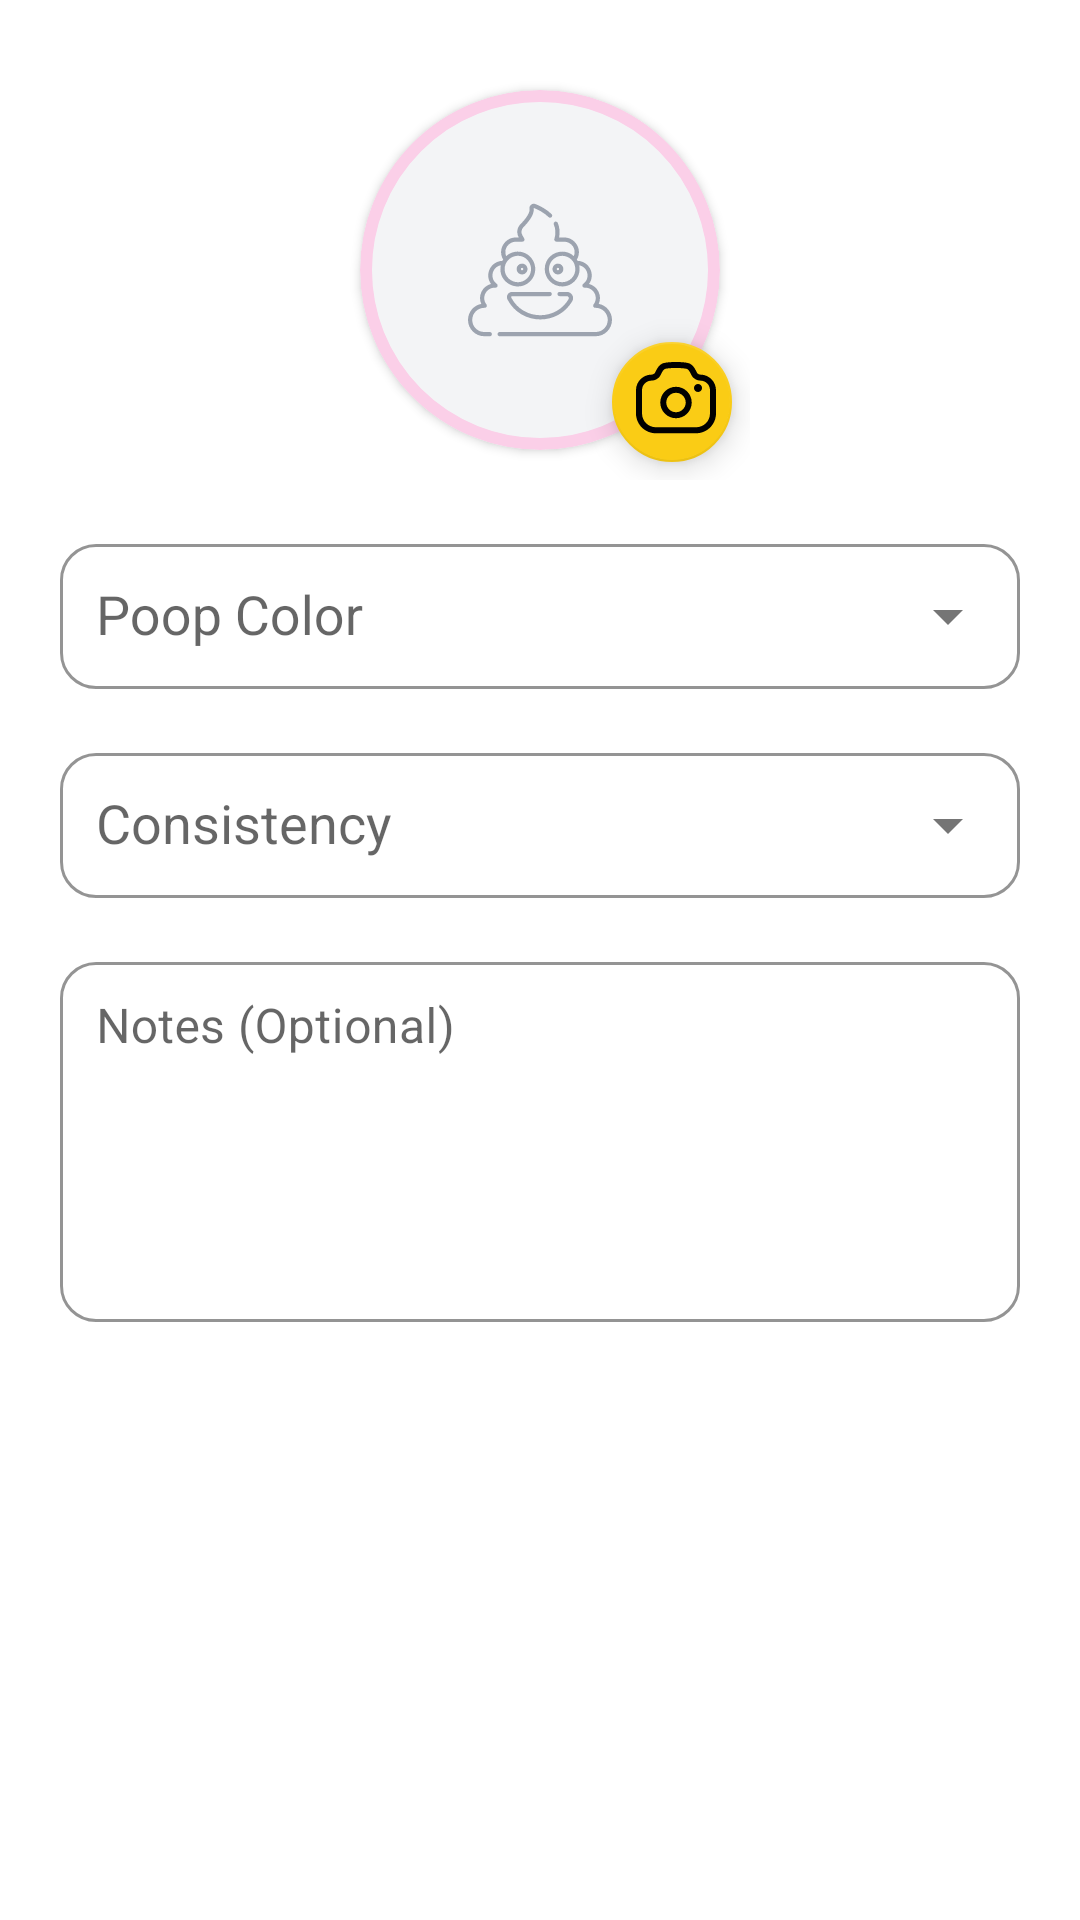

Icons on this 1080*1920 Android screen, each with its box as (x1, y1, x2, y2):
camera: (600, 330, 733, 464)
poop: (468, 204, 612, 336)
